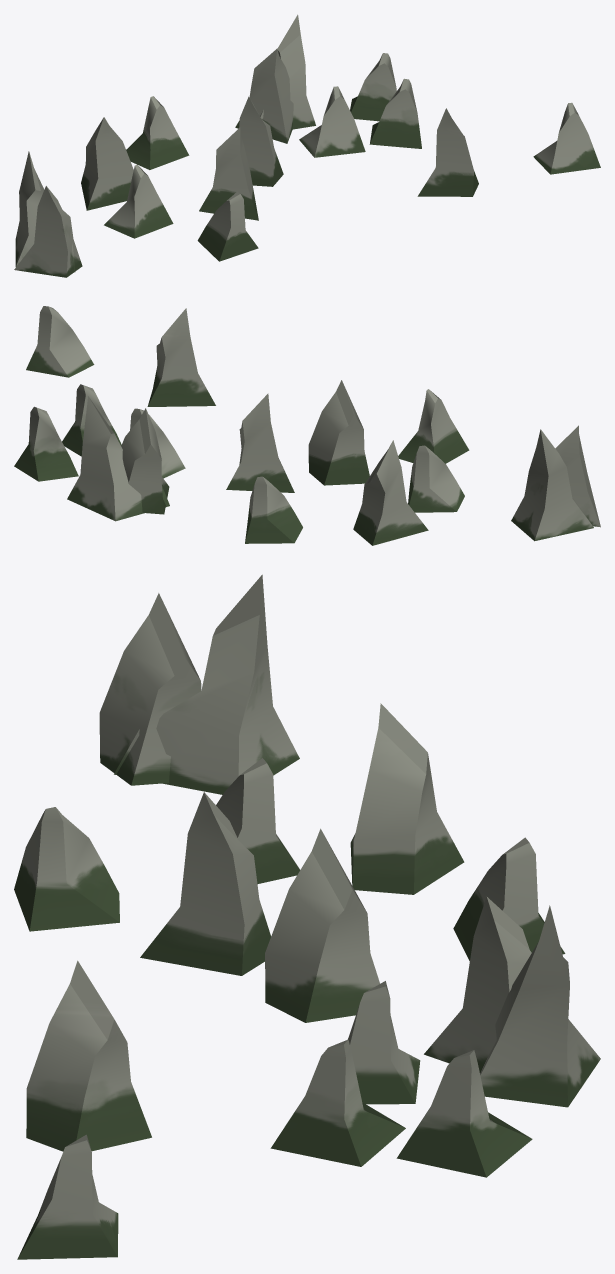
Rendered from Stalagtite.fbx.
The picture shows the model from 3 angles, top to bottom: view 1: azimuth 30°, elevation 25°; view 2: azimuth 150°, elevation 25°; view 3: azimuth 270°, elevation 25°; orthographic projection. The views are drawn at different scales.
Visible parts, largest first — view 1: Stalagtite_Formation; view 2: Stalagtite_Formation; view 3: Stalagtite_Formation.
Part boxes in pixels (x1,y1,x2,y2): Stalagtite_Formation: (14, 14, 600, 277); Stalagtite_Formation: (14, 306, 600, 545); Stalagtite_Formation: (14, 574, 600, 1259).
Size of the model in its own units: 13.04 by 2.21 by 6.13.
